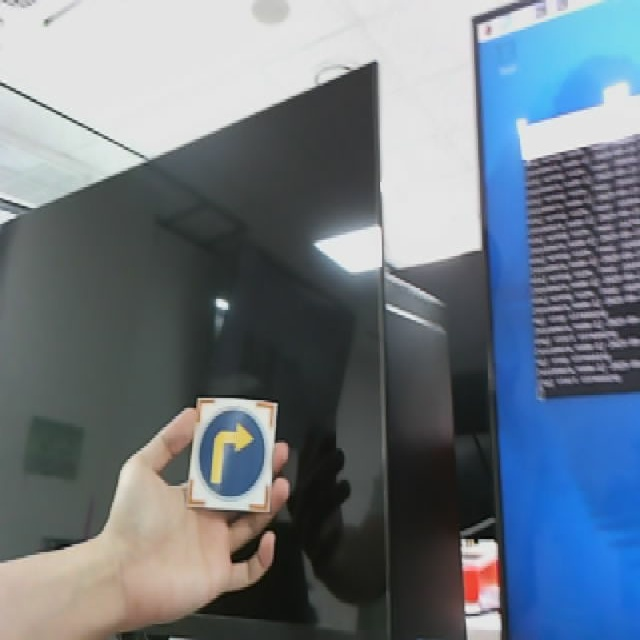right: (185, 398, 279, 514)
